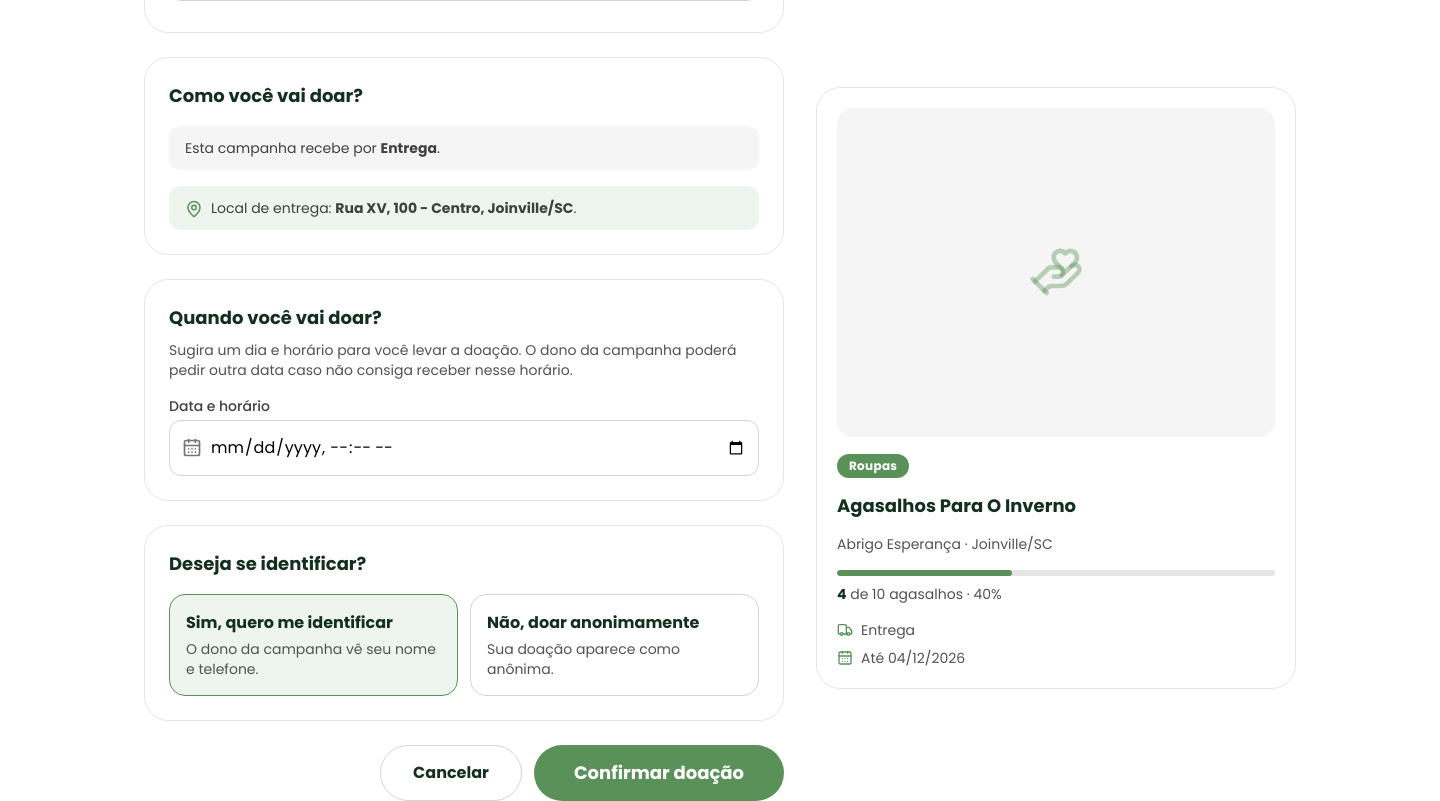
Test: DonatePage › campos vazios mostram os erros
This screenshot has width=1440, height=801.
(page scrolled)
Step 1. Click the button "Confirmar doação" → (659, 773), box [534,745,784,800]
(page scrolled)
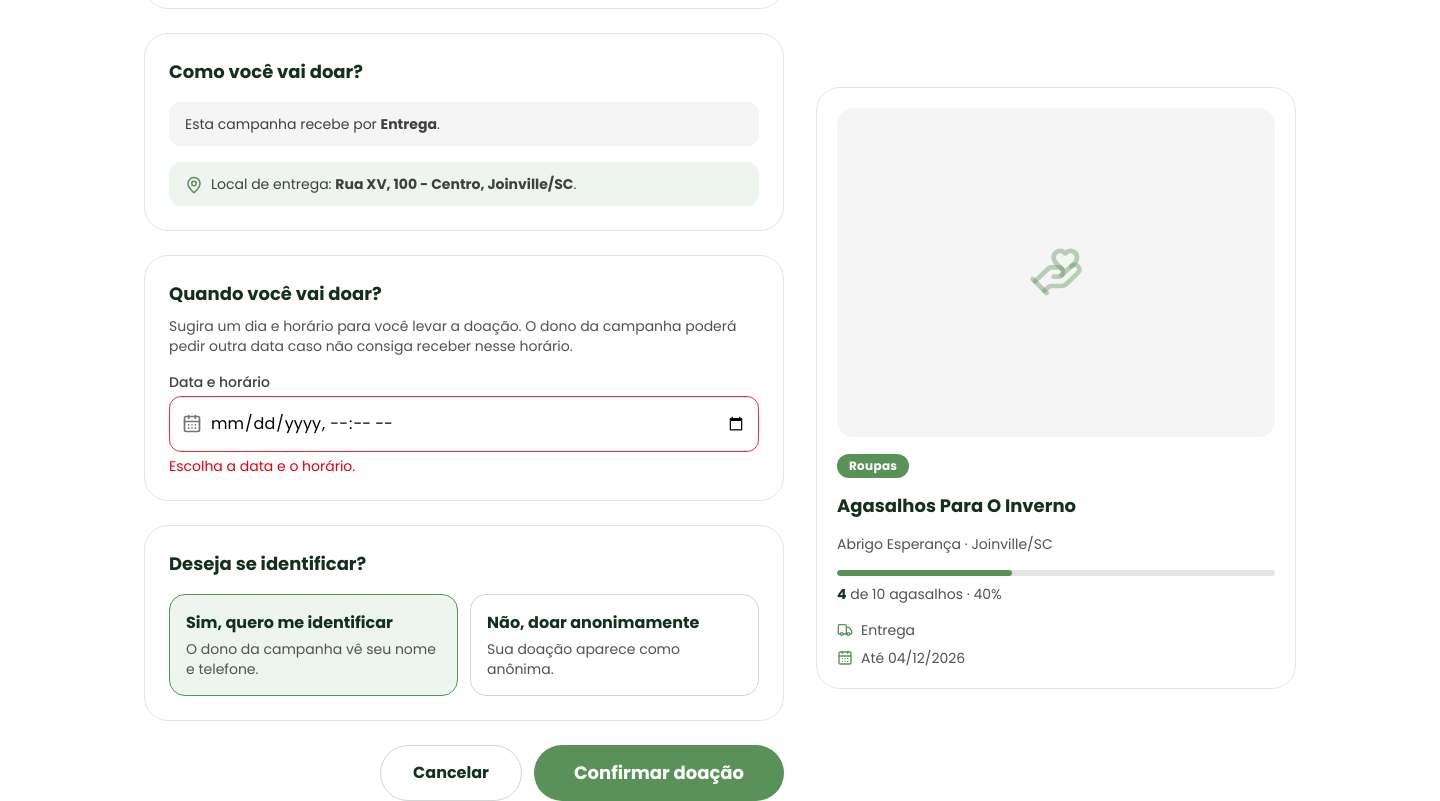
Expected: the text "Escolha a data e o horário." is shown, [169,456,355,476]
